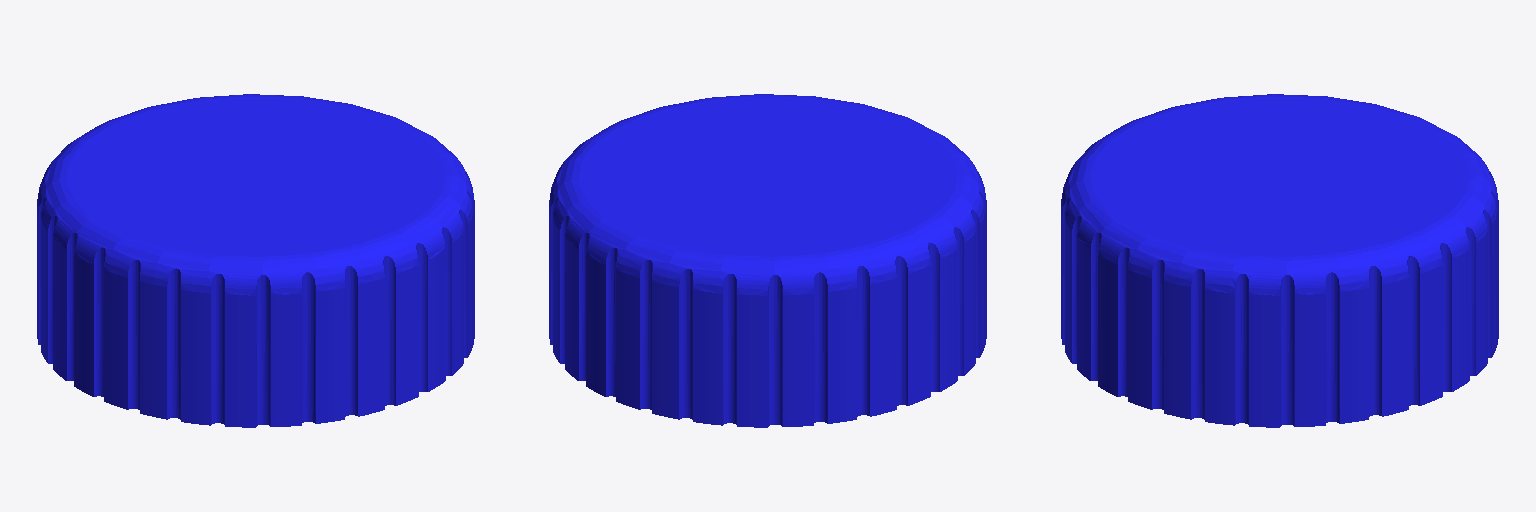
Rendered from original-7.obj.
3 renders of one model, left to right at view 1: azimuth 30°, elevation 25°; view 2: azimuth 150°, elevation 25°; view 3: azimuth 270°, elevation 25°, orthographic.
Visible parts, largest first — view 1: Grupo_2/mesh626/mesh626-geometry#mesh626-geometry; view 2: Grupo_2/mesh626/mesh626-geometry#mesh626-geometry; view 3: Grupo_2/mesh626/mesh626-geometry#mesh626-geometry.
Part boxes in pixels (bbox=[...]): Grupo_2/mesh626/mesh626-geometry#mesh626-geometry: bbox=[37, 94, 474, 427]; Grupo_2/mesh626/mesh626-geometry#mesh626-geometry: bbox=[549, 94, 986, 427]; Grupo_2/mesh626/mesh626-geometry#mesh626-geometry: bbox=[1061, 94, 1498, 427].
Bounding box in the file's own units: 0.1714 × 0.0686 × 0.1714.